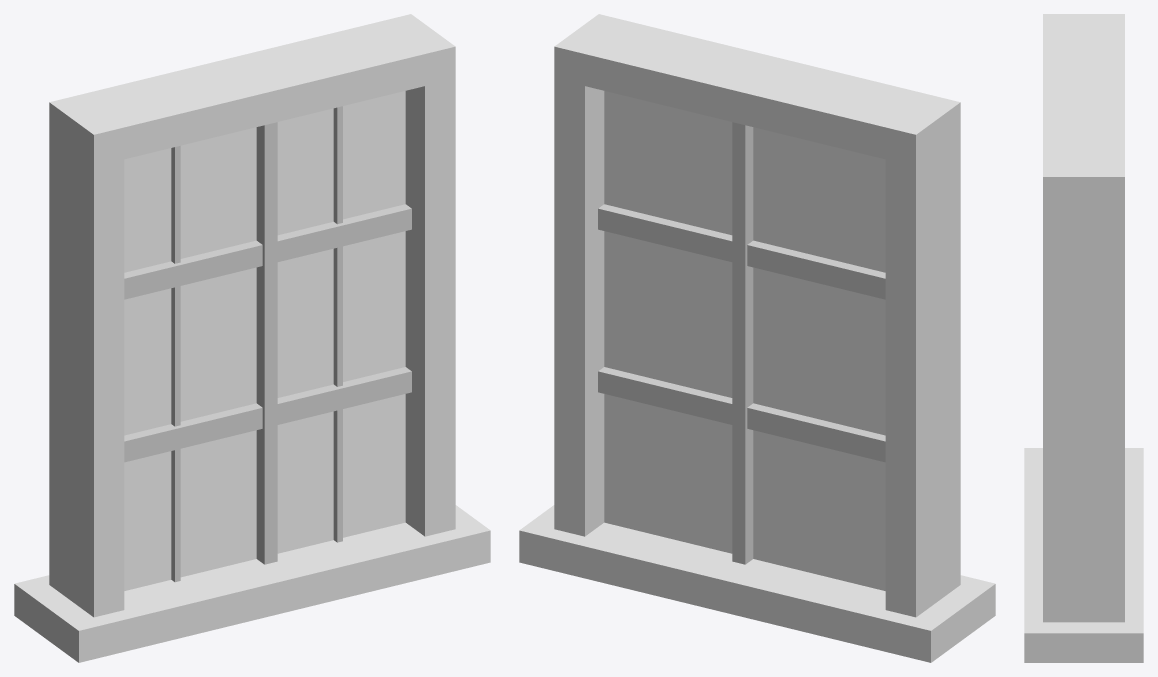
Rendered from window_013.fbx.
3 views of the same model, side by side, from view 1: azimuth 30°, elevation 25°; view 2: azimuth 150°, elevation 25°; view 3: azimuth 270°, elevation 25° (orthographic). The views are drawn at different scales.
Visible parts, largest first — view 1: window_013; view 2: window_013; view 3: window_013.
Part boxes in pixels (x1,y1,x2,y2): window_013: (14, 14, 490, 662); window_013: (519, 14, 995, 662); window_013: (1024, 14, 1143, 662).
Bounding box in the file's own units: 157 × 42.75 × 188.
